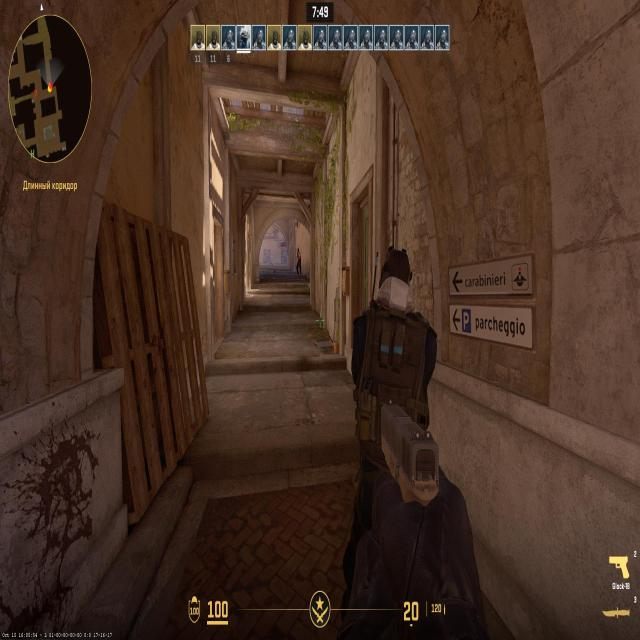CT: (352, 250, 430, 406)
CT_heat: (383, 256, 412, 304)
T: (297, 249, 302, 276)
T_heat: (297, 249, 301, 255)
